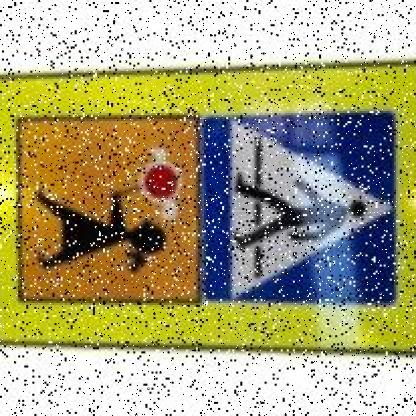Pedestrian Crossing: (201, 106, 399, 316)
